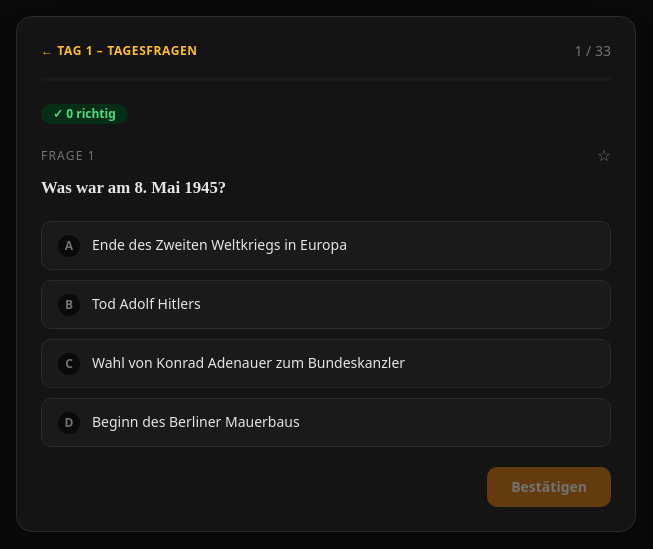
Test: QuizScreen › unfills the star when clicking it again
What coordinates should you click on to do the following:
click the button "☆"
I would click on:
 (604, 156)
Its box is [597,144,611,168].
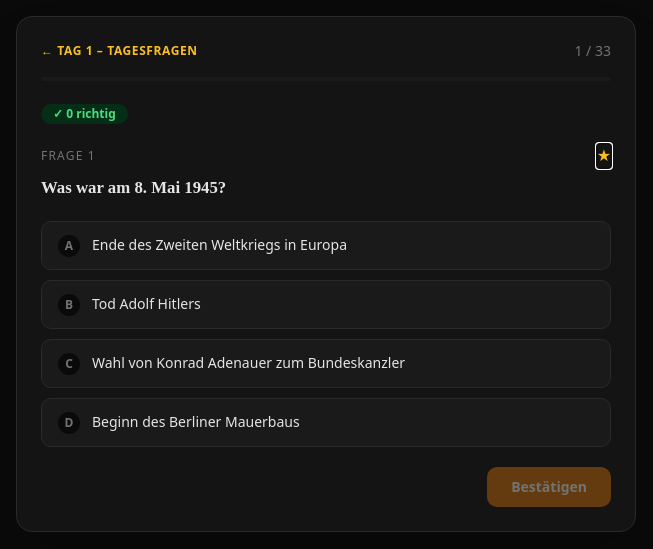
What coordinates should you click on to do the following:
click the button "★"
I would click on:
 (604, 156)
Its box is [597,144,611,168].
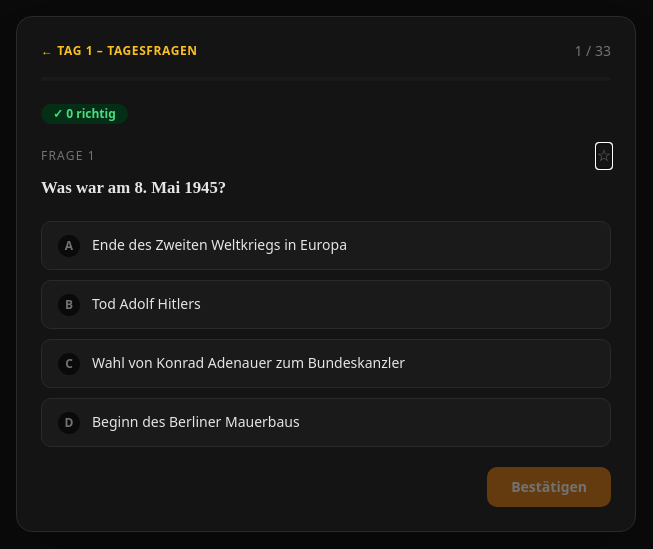
expect the button "☆" is shown: met, box [597,144,611,168]
